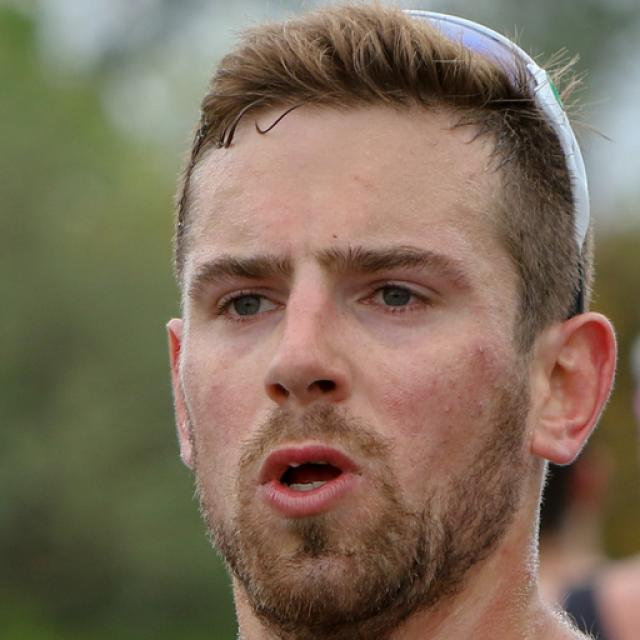Acne: (474, 341, 493, 362), (434, 404, 457, 421), (473, 396, 490, 412), (486, 382, 504, 396)
